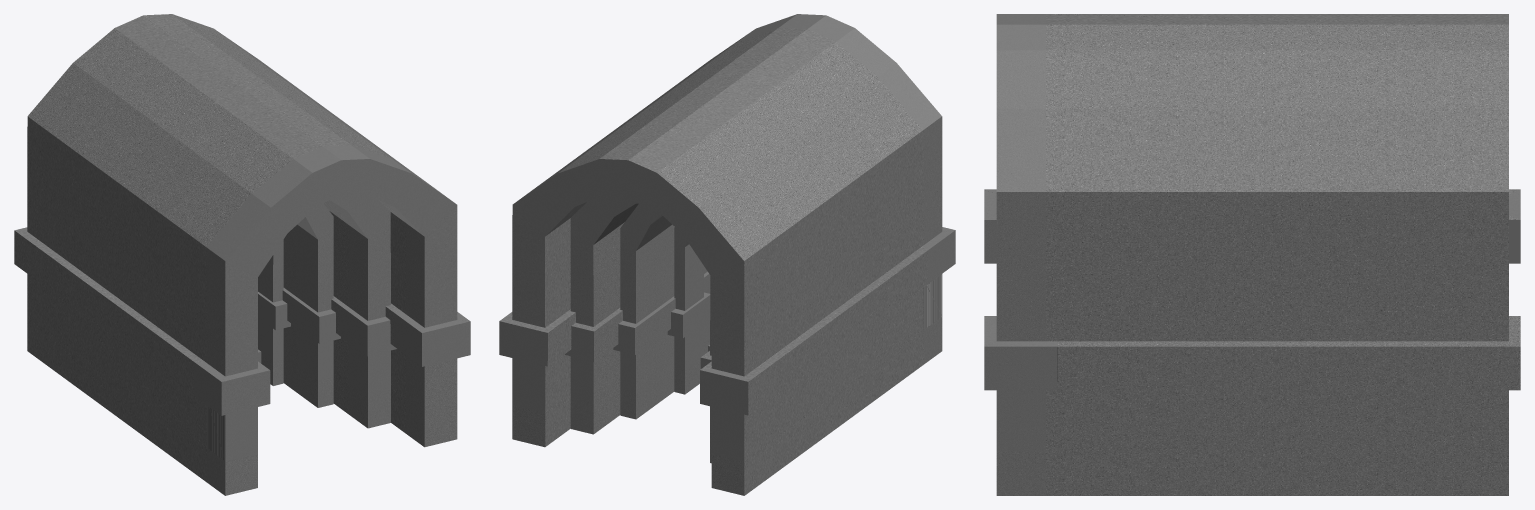
The model's file is archway.glb.
3 renders of one model, left to right at view 1: azimuth 30°, elevation 25°; view 2: azimuth 150°, elevation 25°; view 3: azimuth 270°, elevation 25°, orthographic. The views are drawn at different scales.
Parts seen in each view (by area): view 1: archway; view 2: archway; view 3: archway.
Boxes of the visible parts, box(x1,y1,x2,y2) form: archway: box(14, 14, 470, 495); archway: box(499, 14, 955, 495); archway: box(984, 14, 1520, 495).
Bounding box in the file's own units: 15.14 × 17.87 × 21.84.
Materials: 4 (4 with a texture image).
